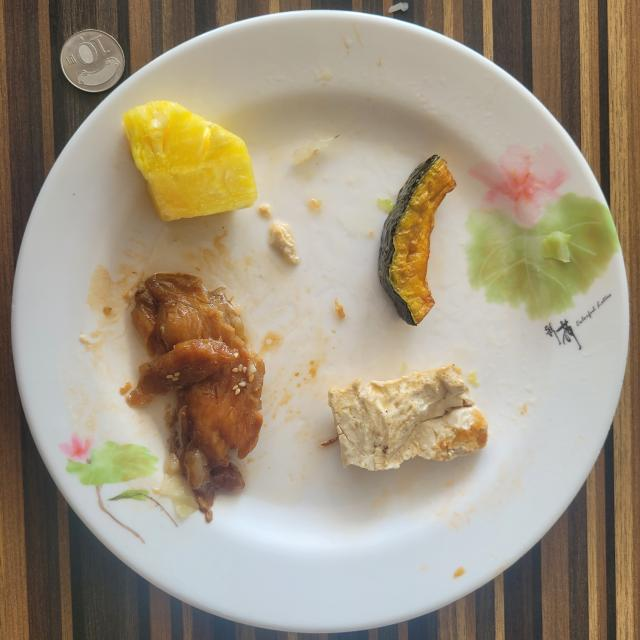Kabayaki sea bream fillet: (128, 274, 265, 521)
coin: (60, 29, 125, 92)
pineapple: (122, 101, 258, 221)
pumpkin: (379, 155, 456, 325)
